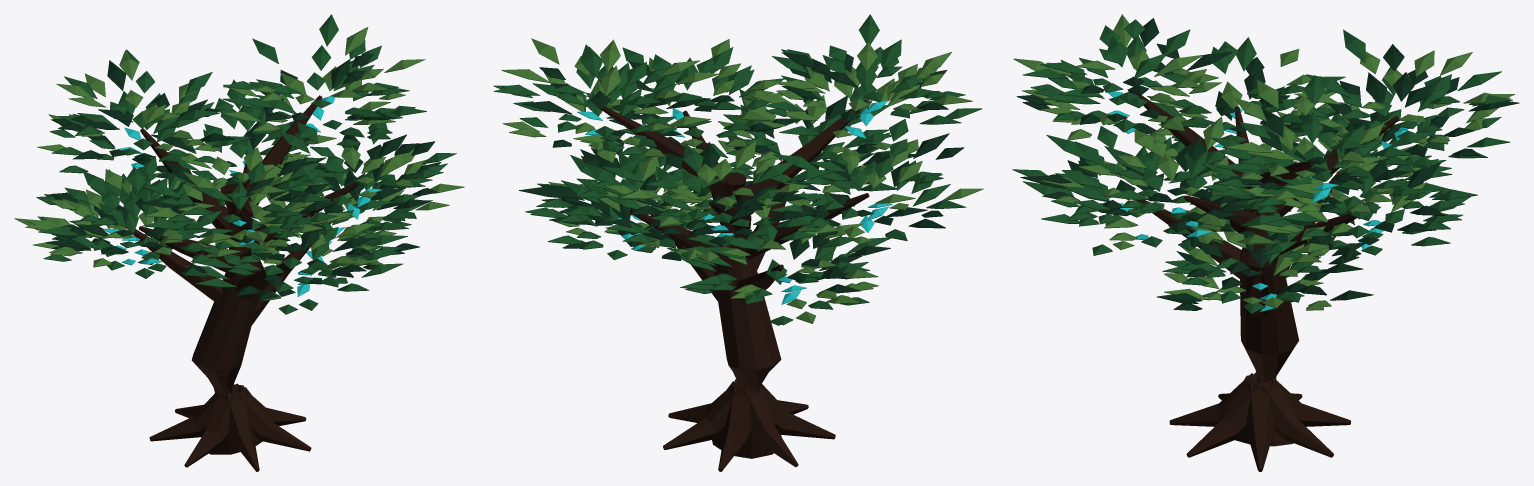
Rendered from Arvore_luminosa_LOD0.fbx.
3 views of the same model, side by side, from view 1: azimuth 30°, elevation 25°; view 2: azimuth 150°, elevation 25°; view 3: azimuth 270°, elevation 25° (orthographic). The views are drawn at different scales.
Parts seen in each view (by area): view 1: Arvore_luminosa_LOD0; view 2: Arvore_luminosa_LOD0; view 3: Arvore_luminosa_LOD0.
Boxes of the visible parts, bbox=[...] form: Arvore_luminosa_LOD0: bbox=[14, 14, 464, 471]; Arvore_luminosa_LOD0: bbox=[493, 14, 983, 471]; Arvore_luminosa_LOD0: bbox=[1012, 14, 1519, 471].
Size of the model in its own units: 523 by 429 by 521.
1 material, 1 textured.
